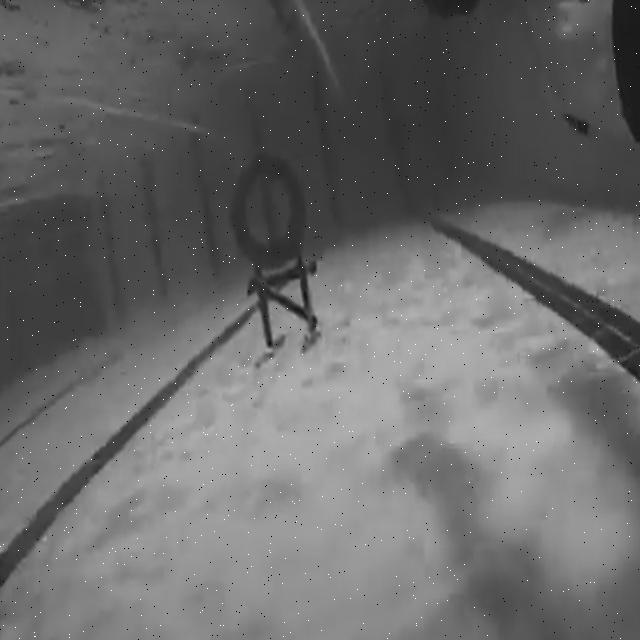Circle: (234, 149, 306, 269)
